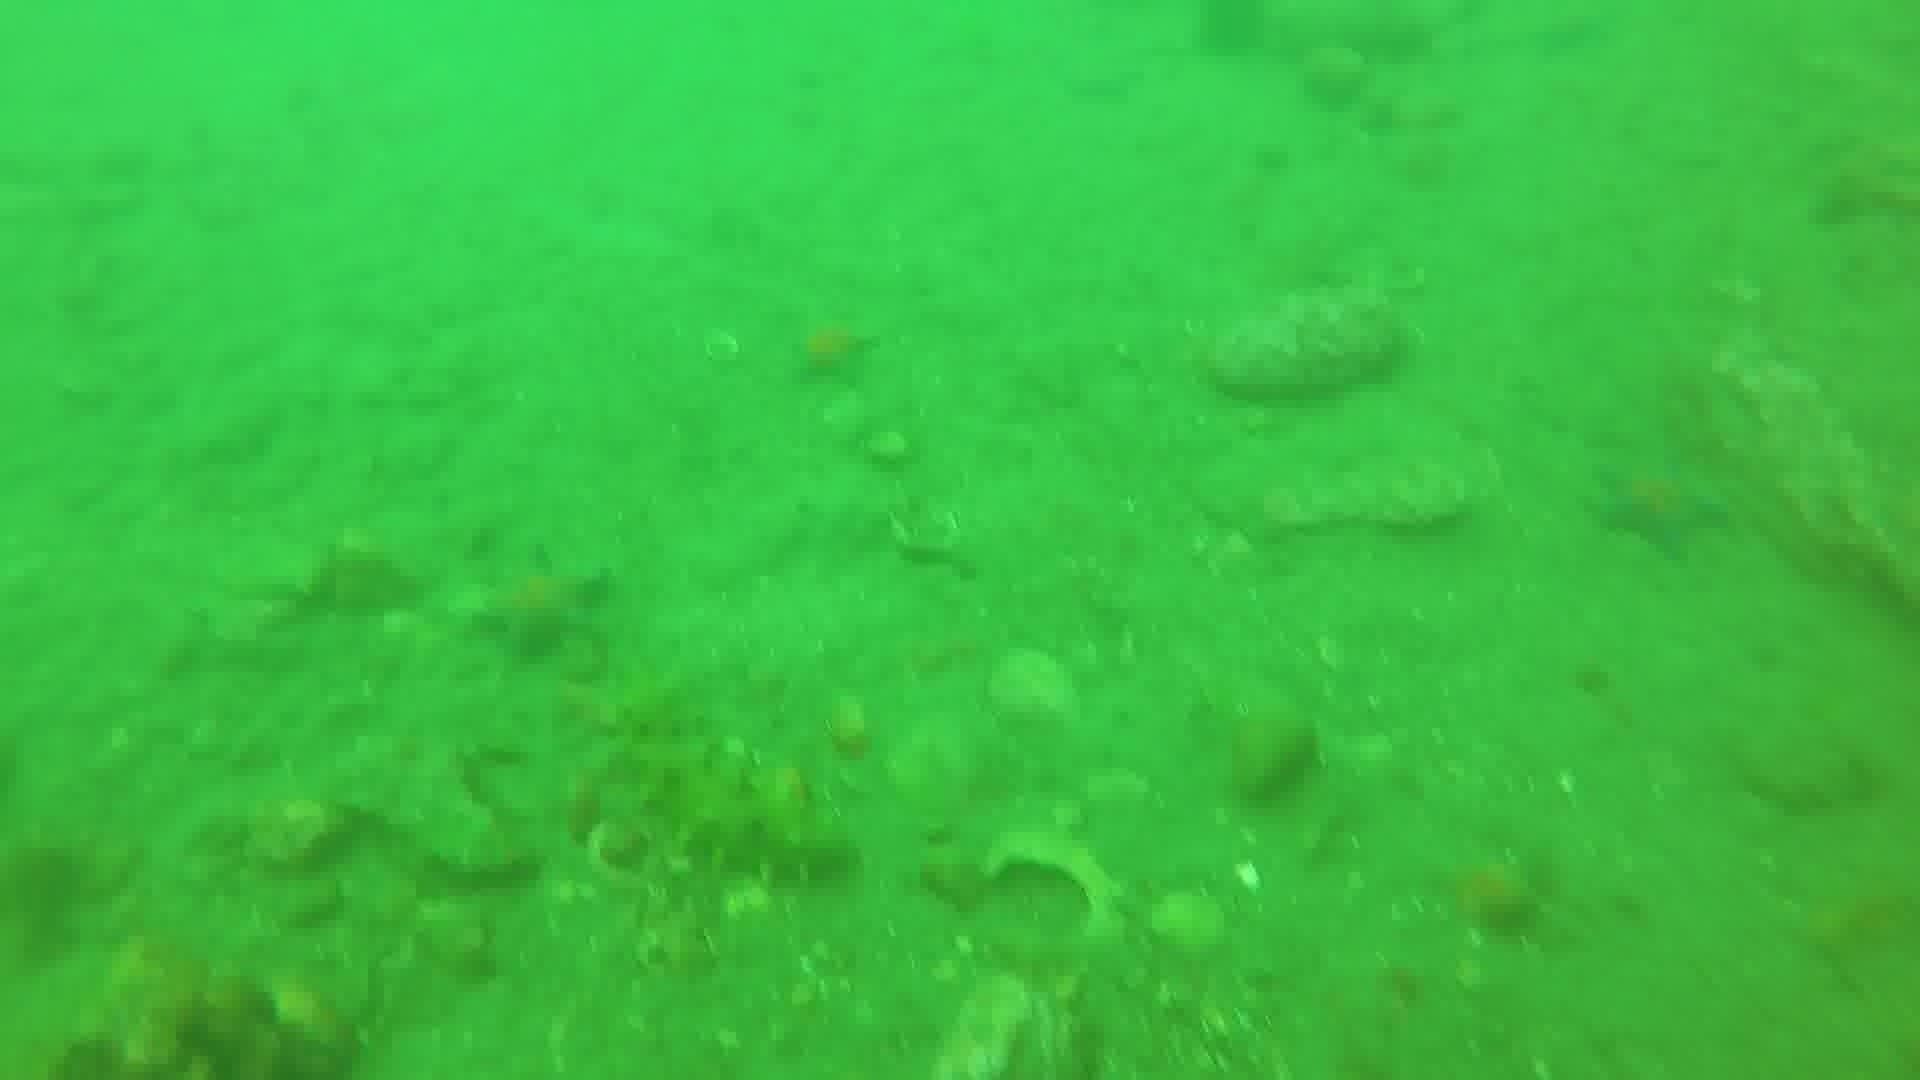echinus: (1188, 1, 1276, 63)
holothurian: (617, 709, 857, 891)
starfish: (465, 545, 615, 665), (1586, 452, 1733, 564), (1427, 841, 1545, 939), (781, 303, 882, 392)
